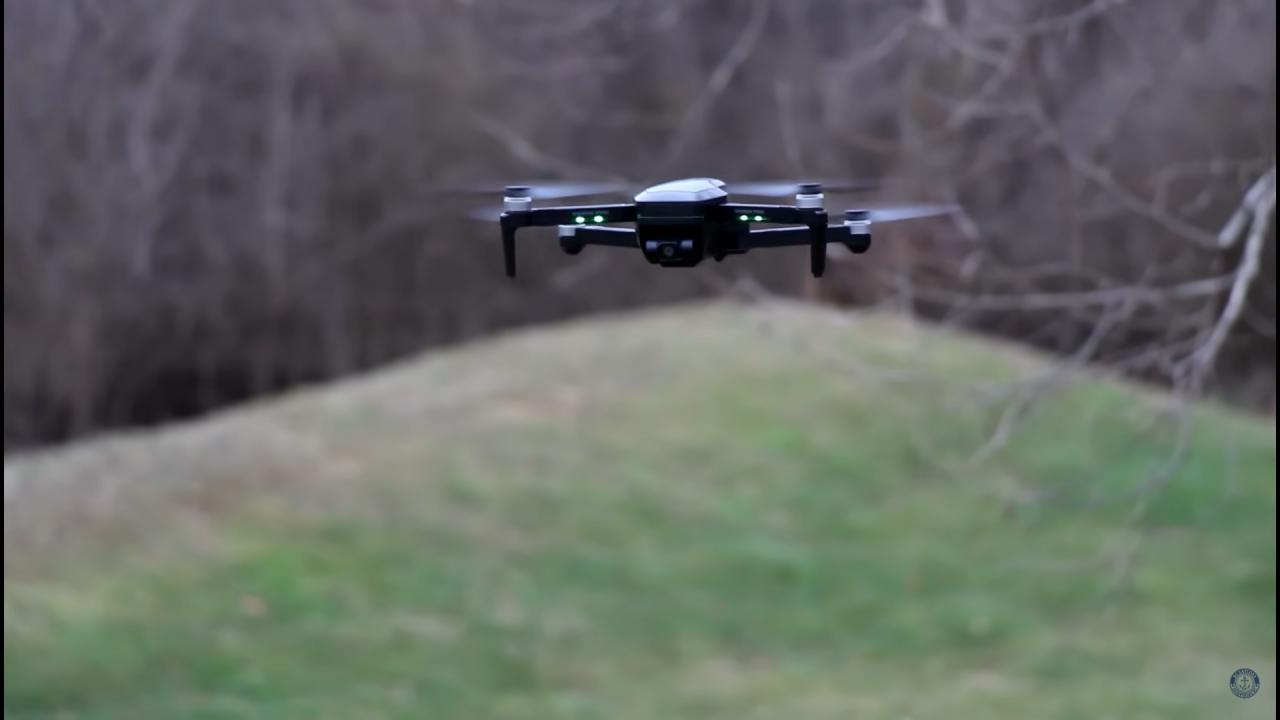Drone: (383, 170, 972, 294)
